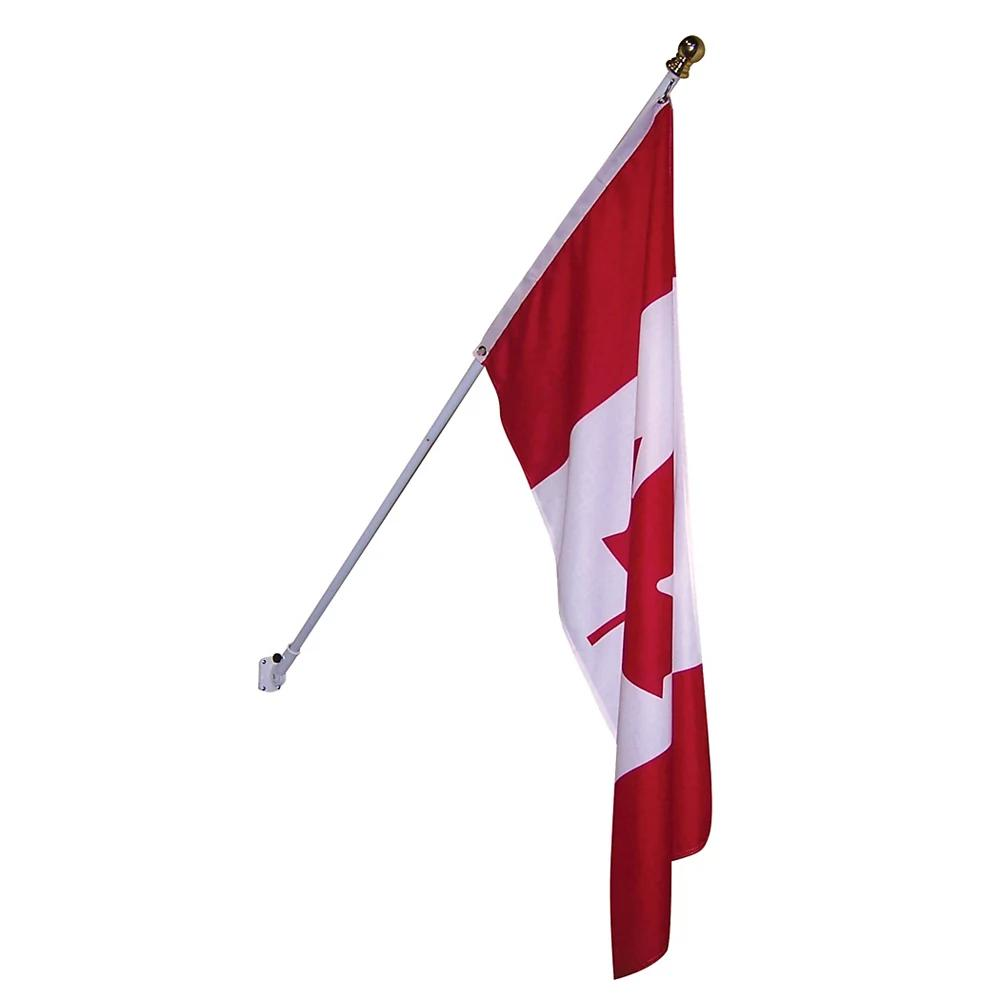Canada flag: (486, 80, 721, 982)
